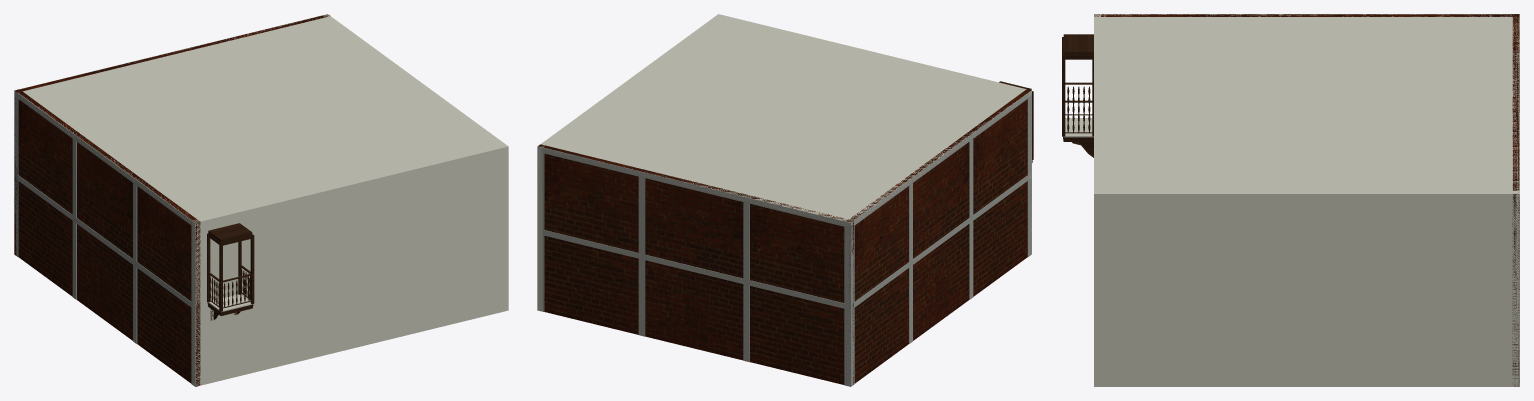
The model's file is building.glb.
3 renders of one model, left to right at view 1: azimuth 30°, elevation 25°; view 2: azimuth 150°, elevation 25°; view 3: azimuth 270°, elevation 25°, orthographic. The views are drawn at different scales.
Parts seen in each view (by area): view 1: roof/house:0/roof_slab#0001, house:0/edge0/z0/house:0/edge0/z0/wall_0_0, house:0/edge3/z0/house:0/edge3/z0/wall_0_0, house:0/edge2/z0/house:0/edge2/z0/wall_0_0, house:0/edge3/z0/house:0/edge3/z0/beam_0_0, house:0/edge3/z0/house:0/edge3/z0/beam_1_0, house:0/edge1/z0/house:0/edge1/z0/wall_0_0, balcony/sample/balcony_cover#0001; view 2: roof/house:0/roof_slab#0001, house:0/edge2/z0/house:0/edge2/z0/wall_0_0, house:0/edge3/z0/house:0/edge3/z0/wall_0_0, house:0/edge1/z0/house:0/edge1/z0/wall_0_0, house:0/edge2/z0/house:0/edge2/z0/beam_0_0, house:0/edge2/z0/house:0/edge2/z0/beam_1_0, house:0/edge3/z0/house:0/edge3/z0/beam_0_0, house:0/edge0/z0/house:0/edge0/z0/wall_0_0, house:0/edge3/z0/house:0/edge3/z0/beam_1_0, house:0/edge2/z0/house:0/edge2/z0/column_2_0, house:0/edge2/z0/house:0/edge2/z0/column_1_1, house:0/edge2/z0/house:0/edge2/z0/column_2_1 (+3 smaller); view 3: house:0/edge1/z0/house:0/edge1/z0/wall_0_0, roof/house:0/roof_slab#0001, house:0/edge0/z0/house:0/edge0/z0/wall_0_0, house:0/edge2/z0/house:0/edge2/z0/wall_0_0, house:0/edge3/z0/house:0/edge3/z0/wall_0_0, balcony/sample/balcony_cover#0001, balcony/sample/balcony_platform#0001.
Boxes of the visible parts, left/top/right/bottom form: roof/house:0/roof_slab#0001: left=16, top=15, right=507, bottom=225; house:0/edge0/z0/house:0/edge0/z0/wall_0_0: left=192, top=144, right=508, bottom=386; house:0/edge3/z0/house:0/edge3/z0/wall_0_0: left=17, top=89, right=200, bottom=386; house:0/edge2/z0/house:0/edge2/z0/wall_0_0: left=14, top=14, right=329, bottom=255; house:0/edge3/z0/house:0/edge3/z0/beam_0_0: left=14, top=173, right=195, bottom=309; house:0/edge3/z0/house:0/edge3/z0/beam_1_0: left=14, top=91, right=195, bottom=228; house:0/edge1/z0/house:0/edge1/z0/wall_0_0: left=323, top=14, right=508, bottom=311; balcony/sample/balcony_cover#0001: left=208, top=223, right=252, bottom=242; roof/house:0/roof_slab#0001: left=540, top=14, right=1031, bottom=225; house:0/edge2/z0/house:0/edge2/z0/wall_0_0: left=538, top=144, right=853, bottom=384; house:0/edge3/z0/house:0/edge3/z0/wall_0_0: left=846, top=89, right=1030, bottom=383; house:0/edge1/z0/house:0/edge1/z0/wall_0_0: left=537, top=14, right=721, bottom=311; house:0/edge2/z0/house:0/edge2/z0/beam_0_0: left=542, top=230, right=851, bottom=310; house:0/edge2/z0/house:0/edge2/z0/beam_1_0: left=538, top=146, right=851, bottom=228; house:0/edge3/z0/house:0/edge3/z0/beam_0_0: left=850, top=172, right=1031, bottom=309; house:0/edge0/z0/house:0/edge0/z0/wall_0_0: left=716, top=14, right=1031, bottom=253; house:0/edge3/z0/house:0/edge3/z0/beam_1_0: left=850, top=90, right=1031, bottom=227; house:0/edge2/z0/house:0/edge2/z0/column_2_0: left=638, top=177, right=645, bottom=254; house:0/edge2/z0/house:0/edge2/z0/column_1_1: left=844, top=227, right=851, bottom=304; house:0/edge2/z0/house:0/edge2/z0/column_2_1: left=638, top=259, right=645, bottom=336; house:0/edge1/z0/house:0/edge1/z0/wall_0_0: left=1094, top=191, right=1519, bottom=386; roof/house:0/roof_slab#0001: left=1094, top=14, right=1519, bottom=198; house:0/edge0/z0/house:0/edge0/z0/wall_0_0: left=1094, top=14, right=1100, bottom=386; house:0/edge2/z0/house:0/edge2/z0/wall_0_0: left=1512, top=14, right=1519, bottom=386; house:0/edge3/z0/house:0/edge3/z0/wall_0_0: left=1094, top=14, right=1519, bottom=16; balcony/sample/balcony_cover#0001: left=1063, top=34, right=1093, bottom=55; balcony/sample/balcony_platform#0001: left=1064, top=118, right=1093, bottom=137.
Bounding box in the file's own units: 12 × 6 × 12.89.
4 materials, 2 textured.
